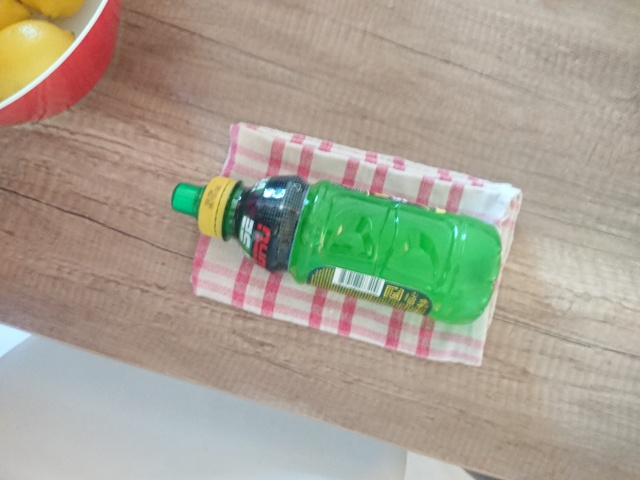Vindi Iso Sport Lemon-Grapefruit 500mL: (168, 172, 505, 328)
